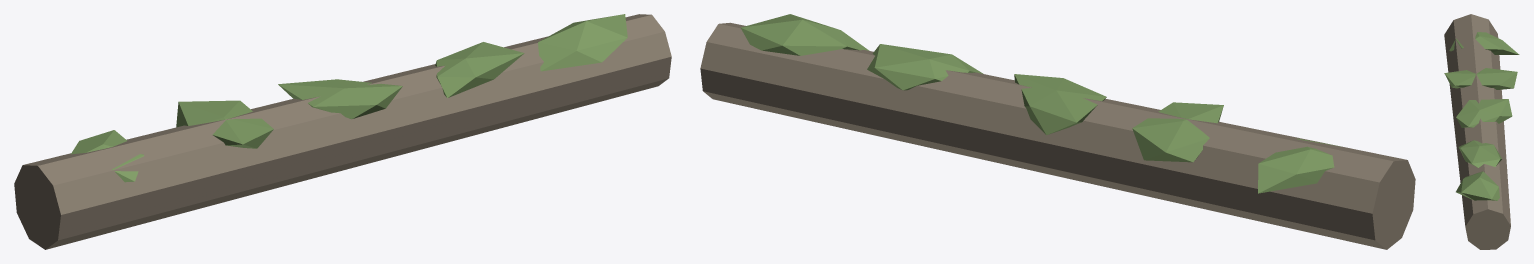
Rendered from MossyLog.glb.
3 views of the same model, side by side, from view 1: azimuth 30°, elevation 25°; view 2: azimuth 150°, elevation 25°; view 3: azimuth 270°, elevation 25° (orthographic). The views are drawn at different scales.
Visible parts, largest first — view 1: Limb.028, Moss.004, Moss.002, Moss.001, Moss.003, Moss; view 2: Limb.028, Moss.001, Moss.002, Moss.004, Moss.003, Moss; view 3: Limb.028, Moss.002, Moss.001, Moss.004, Moss.003, Moss.
Boxes of the visible parts, x1=… form: Limb.028: x1=14, y1=14, x2=671, y2=249; Moss.004: x1=538, y1=14, x2=627, y2=71; Moss.002: x1=278, y1=79, x2=402, y2=119; Moss.001: x1=176, y1=100, x2=273, y2=148; Moss.003: x1=435, y1=42, x2=524, y2=97; Moss: x1=71, y1=130, x2=144, y2=182; Limb.028: x1=700, y1=22, x2=1415, y2=249; Moss.001: x1=1132, y1=102, x2=1223, y2=162; Moss.002: x1=1014, y1=74, x2=1106, y2=135; Moss.004: x1=741, y1=14, x2=869, y2=55; Moss.003: x1=867, y1=44, x2=983, y2=90; Moss: x1=1258, y1=138, x2=1340, y2=193; Limb.028: x1=1444, y1=14, x2=1510, y2=249; Moss.002: x1=1456, y1=99, x2=1512, y2=127; Moss.001: x1=1444, y1=68, x2=1517, y2=89; Moss.004: x1=1456, y1=171, x2=1499, y2=200; Moss.003: x1=1458, y1=140, x2=1501, y2=167; Moss: x1=1449, y1=32, x2=1519, y2=54.
Size of the model in its own units: 5.22 by 0.6586 by 0.8851.
